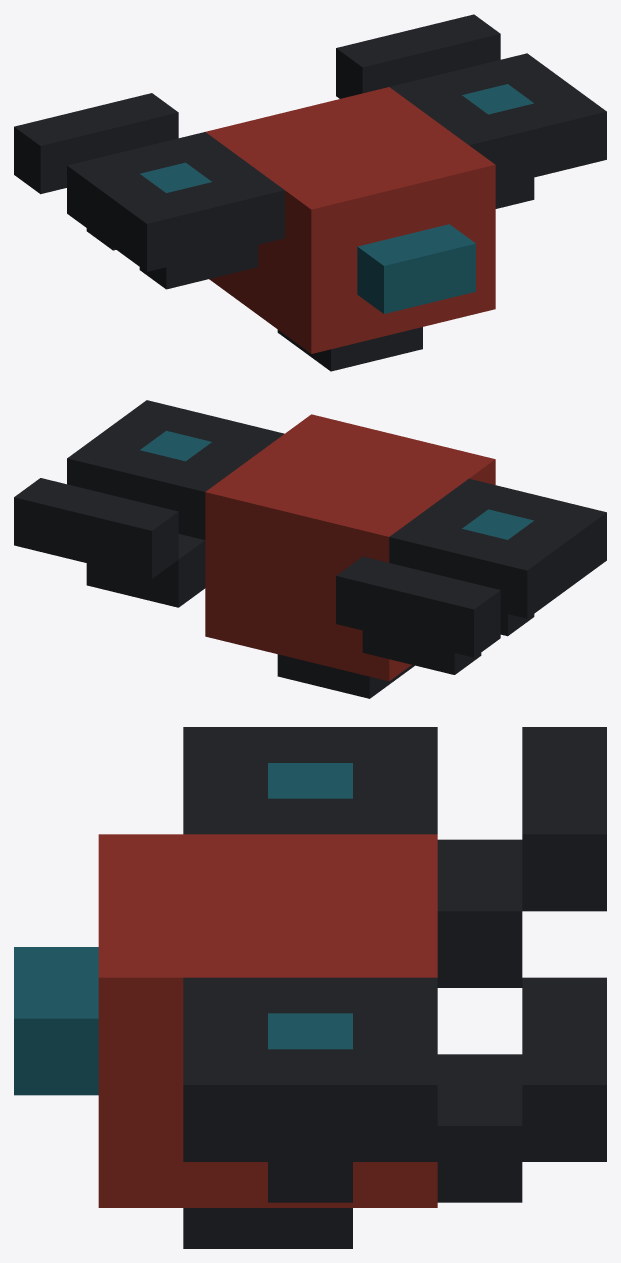
The model's file is mech_small_drone_damaged.glb.
3 renders of one model, top to bottom at view 1: azimuth 30°, elevation 25°; view 2: azimuth 150°, elevation 25°; view 3: azimuth 270°, elevation 25°, orthographic. The views are drawn at different scales.
Parts seen in each view (by area): view 1: Rotor mesh, Body mesh, Arm mesh, Skid mesh; view 2: Rotor mesh, Body mesh, Arm mesh, Skid mesh; view 3: Rotor mesh, Body mesh, Arm mesh, Skid mesh.
Boxes of the visible parts, x1,y1,x2,y2 form: Rotor mesh: (14, 14, 606, 271); Body mesh: (205, 87, 495, 353); Arm mesh: (86, 177, 534, 289); Skid mesh: (277, 327, 422, 371); Rotor mesh: (14, 400, 606, 657); Body mesh: (205, 414, 495, 681); Arm mesh: (86, 534, 534, 674); Skid mesh: (277, 654, 414, 698); Rotor mesh: (183, 727, 606, 1161); Body mesh: (14, 834, 437, 1207); Arm mesh: (268, 839, 522, 1202); Skid mesh: (183, 1208, 352, 1248).
Bounding box in the file's own units: 10 × 4 × 7.
Materials: 1 (1 with a texture image).
